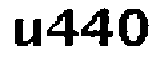0: (118, 7, 151, 50)
4: (80, 6, 116, 47), (43, 7, 79, 47)
u: (11, 15, 42, 50)
